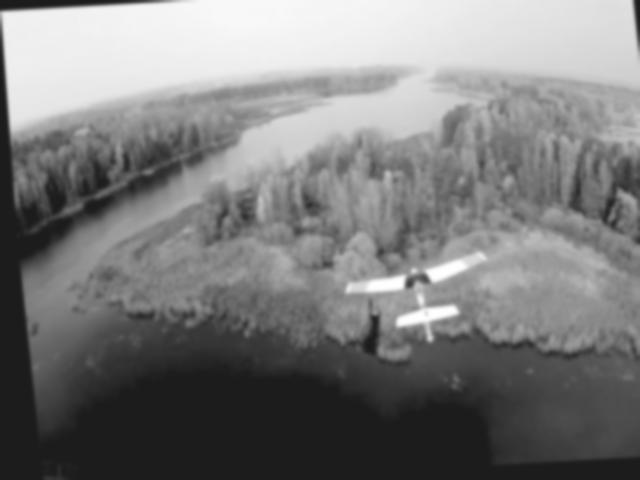hedef: (333, 254, 494, 351)
